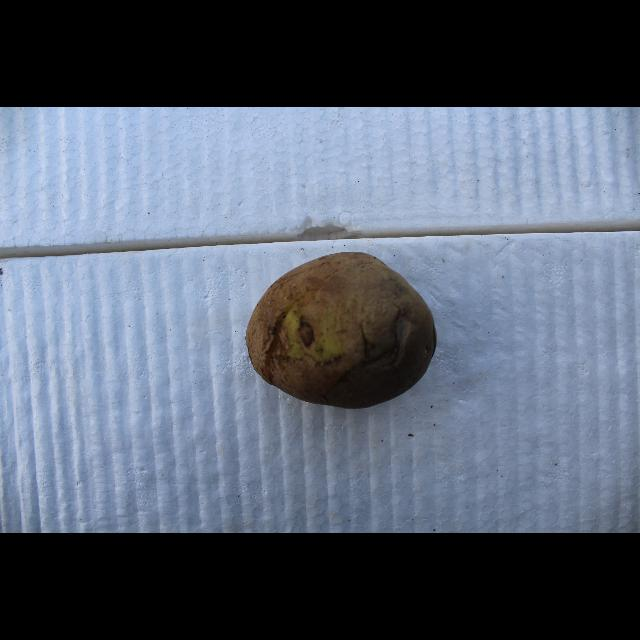Diseased-fungal potato: (200, 230, 398, 396)
